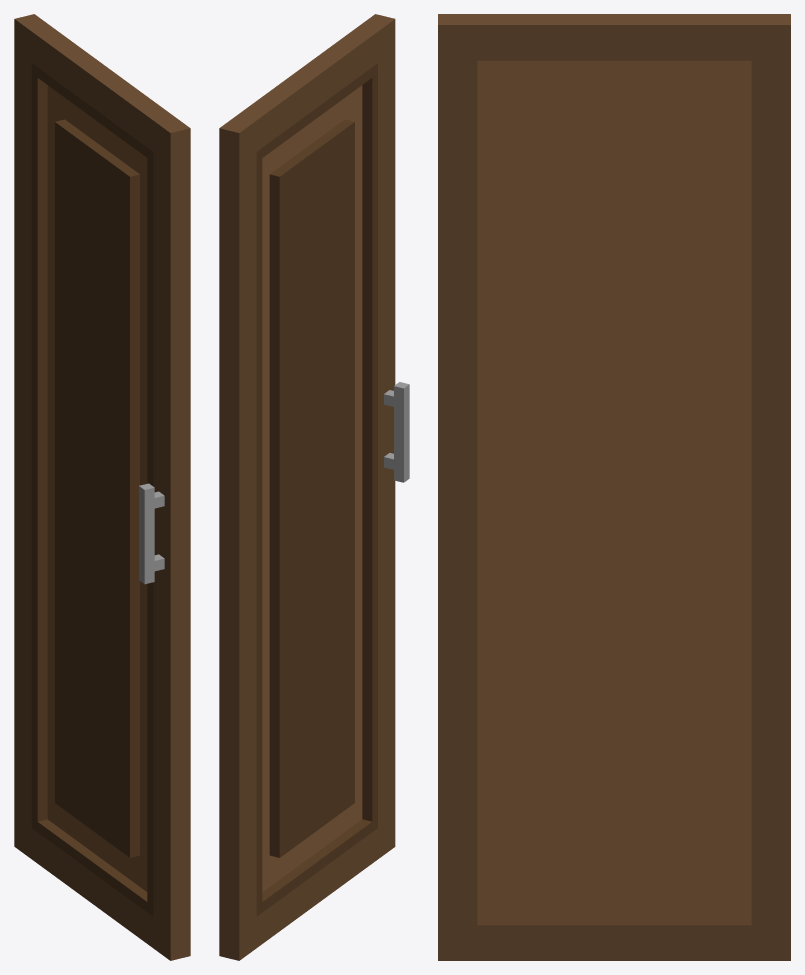
The model's file is Closet-1.obj.
3 views of the same model, side by side, from view 1: azimuth 30°, elevation 25°; view 2: azimuth 150°, elevation 25°; view 3: azimuth 270°, elevation 25° (orthographic). The views are drawn at different scales.
Size of the model in its own units: 0.4 by 7.9 by 2.7.
1 material, 1 textured.
